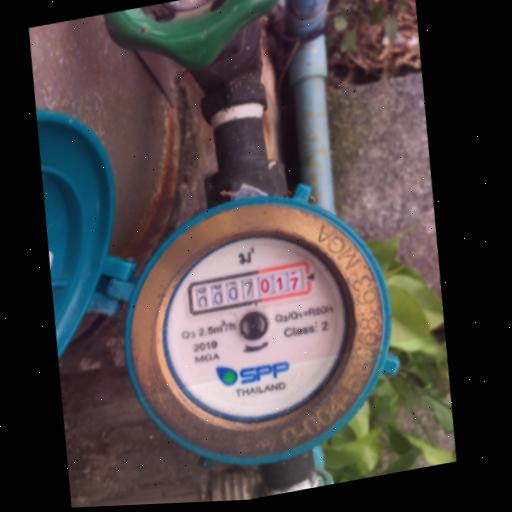0: (195, 288, 210, 309), (224, 282, 239, 303), (257, 276, 272, 297), (211, 284, 225, 306)
1: (272, 274, 287, 294)
7: (287, 271, 303, 292), (241, 279, 255, 301)
border_water_meter_number: (185, 260, 314, 317)
